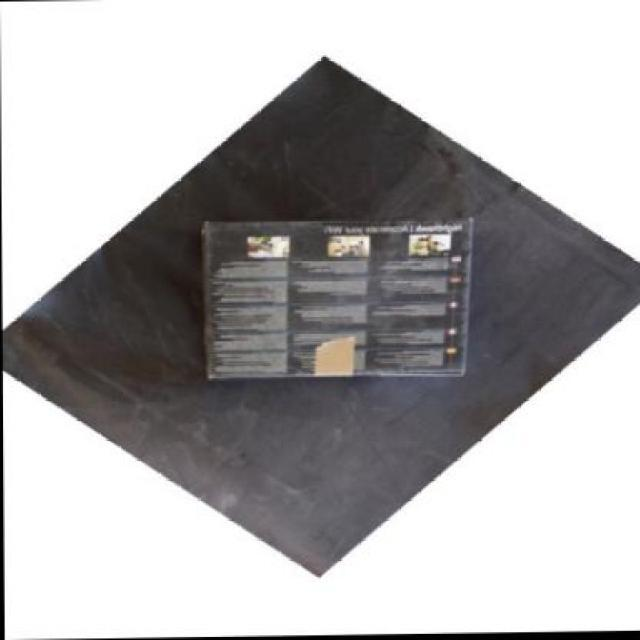box: (198, 218, 468, 377)
